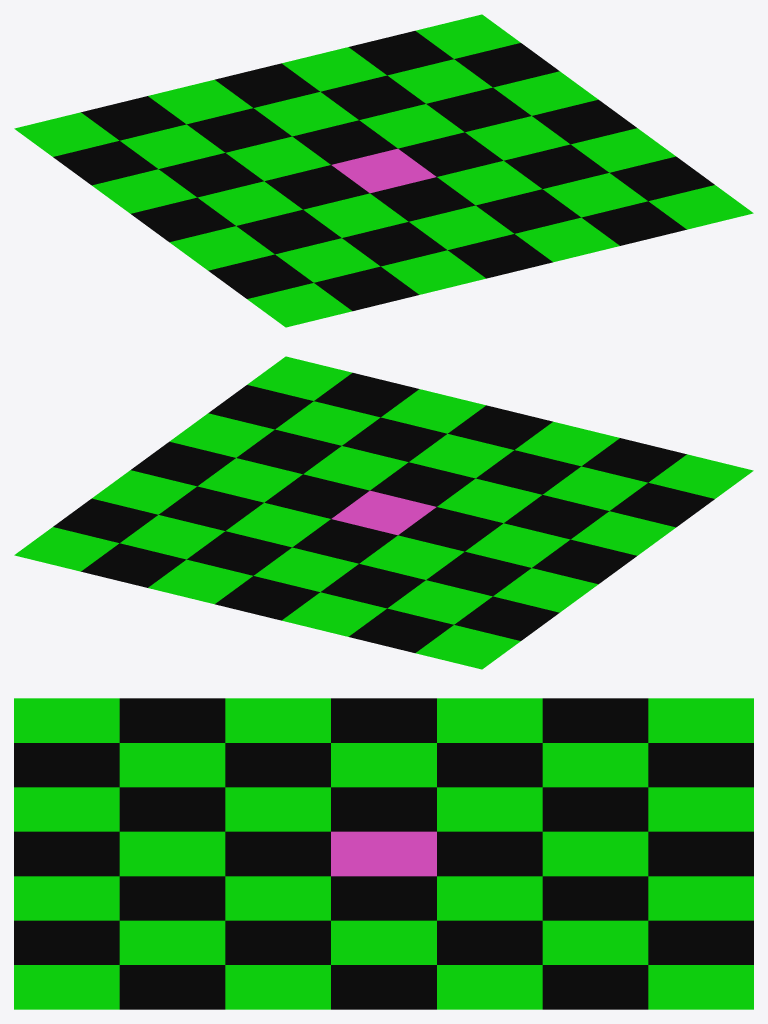
File: Tabuleiro.gltf
The picture shows the model from 3 angles, top to bottom: view 1: azimuth 30°, elevation 25°; view 2: azimuth 150°, elevation 25°; view 3: azimuth 270°, elevation 25°; orthographic projection. The views are drawn at different scales.
Visible parts, largest first — view 1: Tabuleiro; view 2: Tabuleiro; view 3: Tabuleiro.
Boxes of the visible parts, x1=… form: Tabuleiro: x1=14, y1=14, x2=753, y2=327; Tabuleiro: x1=14, y1=356, x2=753, y2=669; Tabuleiro: x1=14, y1=698, x2=753, y2=1009.
Size of the model in its own units: 11.65 by 0 by 11.71.
